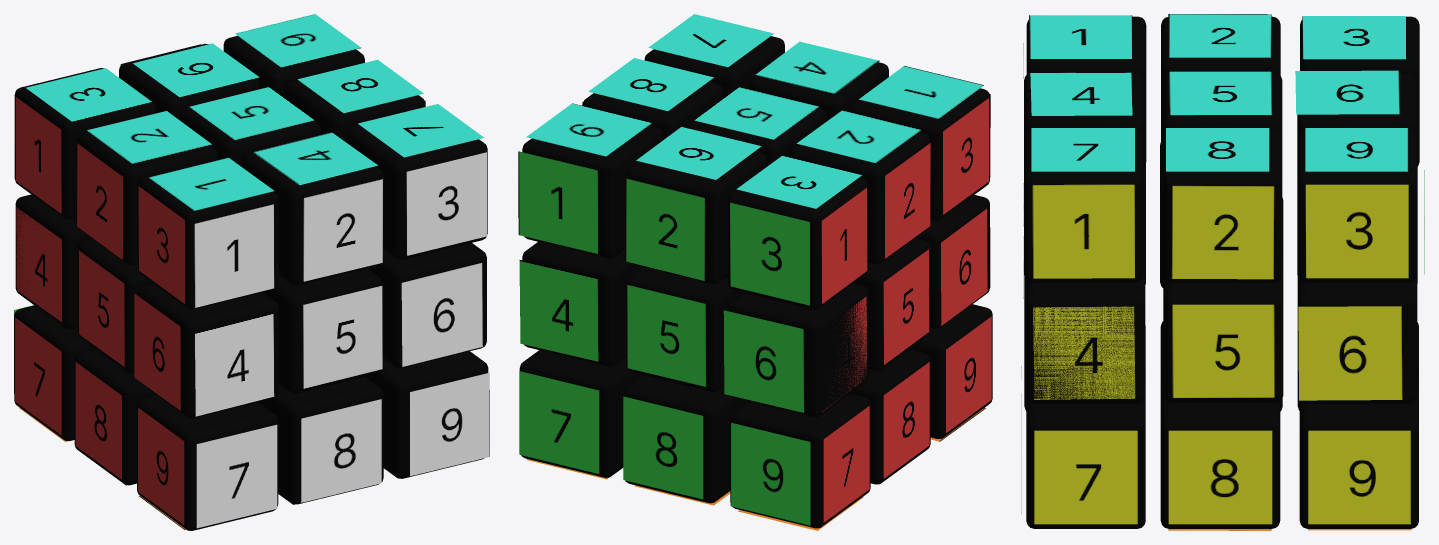
Rendered from Rubix_cube_Uv_Unwrapped (1).glb.
The picture shows the model from 3 angles, left to right: view 1: azimuth 30°, elevation 25°; view 2: azimuth 150°, elevation 25°; view 3: azimuth 270°, elevation 25°; orthographic projection. The views are drawn at different scales.
Parts seen in each view (by area): view 1: Cube.081, Cube.060, Cube.058, Cube.066, Cube.063, Cube.044, Cube.080, Cube.079, Cube.061, Cube.077, Cube.026, Cube.042 (+34 smaller); view 2: Cube.039, Cube.012, Cube.084, Cube.085, Cube.083, Cube.031, Cube.074, Cube.021, Cube.082, Cube.067, Cube.072, Level_1_9 (+34 smaller); view 3: Cube.015, Cube.025, Cube.011, Cube.028, Cube.009, Cube.022, Cube.016, Cube.001, Cube.007, Cube.013, Cube.023, Cube.026 (+21 smaller).
Part boxes in pixels (x1,y1,x2,y2): Cube.081: [196, 424, 277, 528]; Cube.060: [302, 285, 383, 389]; Cube.058: [302, 178, 383, 281]; Cube.066: [401, 263, 482, 366]; Cube.063: [195, 312, 276, 416]; Cube.044: [194, 204, 274, 307]; Cube.080: [301, 399, 381, 502]; Cube.079: [409, 372, 489, 476]; Cube.061: [406, 152, 486, 255]; Cube.077: [259, 377, 383, 504]; Cube.026: [365, 351, 488, 478]; Cube.042: [137, 395, 278, 530]; Cube.039: [728, 283, 868, 417]; Cube.012: [518, 151, 598, 253]; Cube.084: [623, 396, 703, 499]; Cube.085: [519, 371, 599, 473]; Cube.083: [730, 422, 810, 525]; Cube.031: [626, 285, 706, 387]; Cube.074: [519, 260, 600, 361]; Cube.021: [625, 177, 705, 280]; Cube.082: [723, 310, 804, 412]; Cube.067: [730, 202, 809, 305]; Cube.072: [624, 375, 748, 503]; Level_1_9: [522, 125, 662, 258]; Cube.015: [1026, 254, 1145, 403]; Cube.025: [1168, 430, 1272, 524]; Cube.011: [1305, 184, 1408, 278]; Cube.028: [1034, 430, 1137, 524]; Cube.009: [1172, 304, 1275, 398]; Cube.022: [1307, 430, 1410, 524]; Cube.016: [1298, 306, 1402, 400]; Cube.001: [1031, 184, 1135, 278]; Cube.007: [1170, 185, 1274, 279]; Cube.013: [1033, 305, 1137, 399]; Cube.023: [1160, 377, 1280, 528]; Cube.026: [1026, 383, 1145, 528].
Bounding box in the file's own units: 6.54 × 6.65 × 6.76.
Materials: 8 (6 with a texture image).
